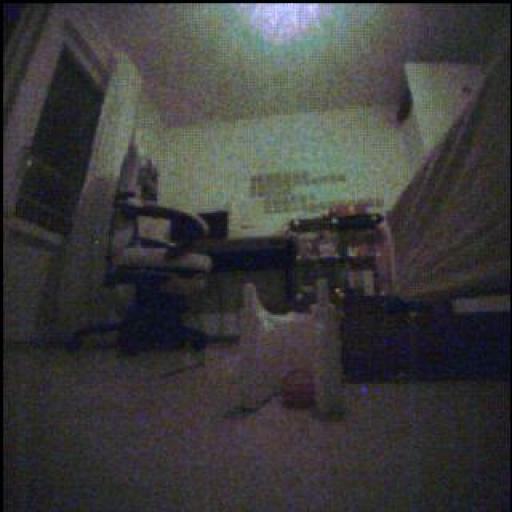basket: (283, 371, 316, 409)
